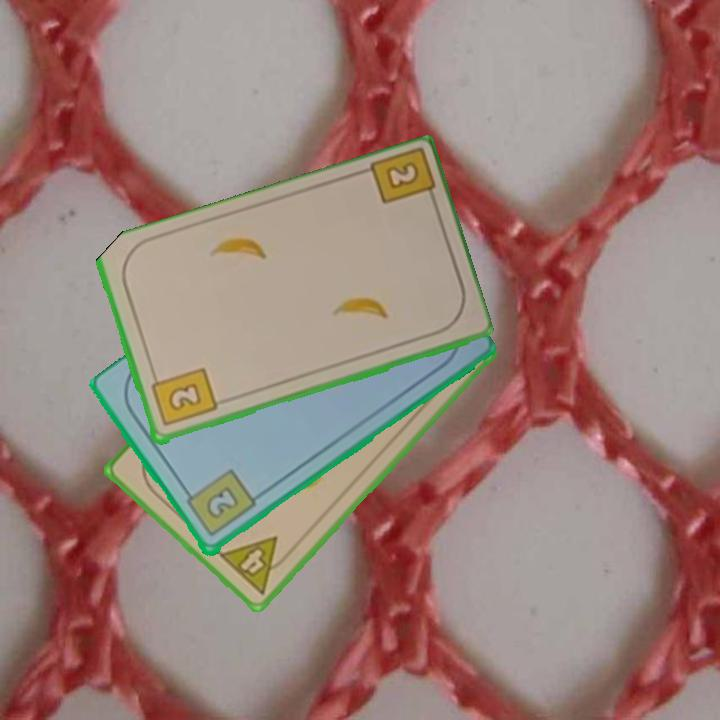2b: (180, 466, 259, 540), (364, 147, 440, 210), (147, 365, 219, 430)
4p: (215, 532, 296, 598)
